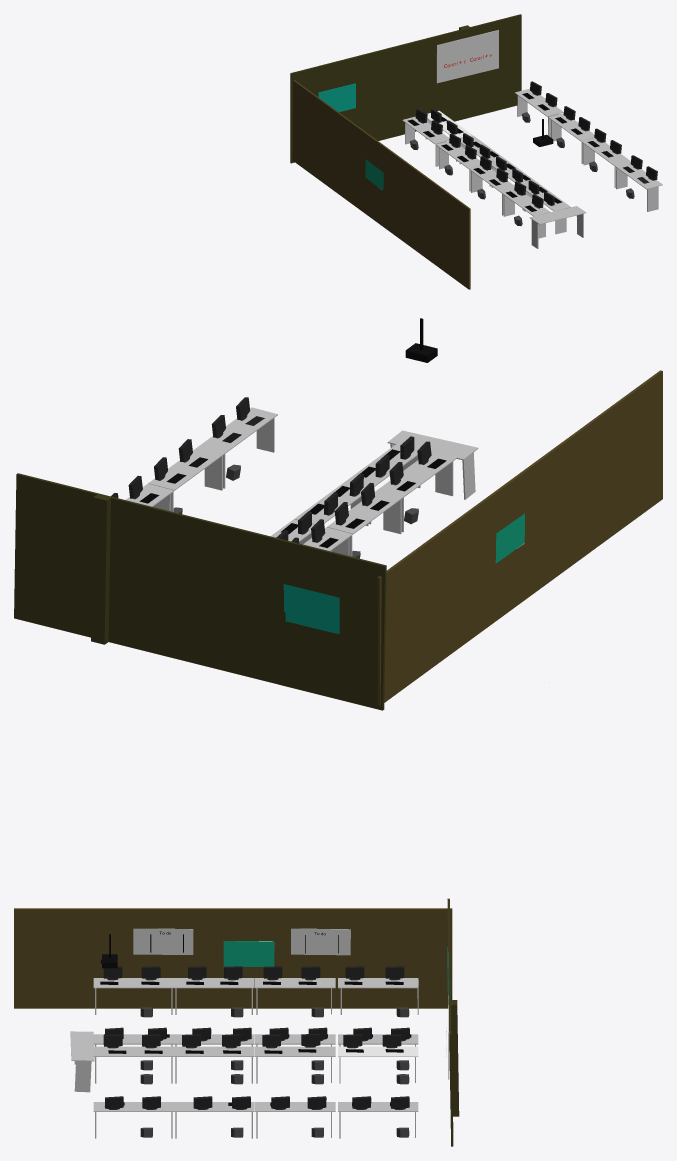
3 views of the same model, one above another, from view 1: azimuth 30°, elevation 25°; view 2: azimuth 150°, elevation 25°; view 3: azimuth 270°, elevation 25° (orthographic). The views are drawn at different scales.
Parts seen in each view (by area): view 1: teste_Cube.002, Cube.001, Cube_Cube.003, Cube.000_Cube.000, Cube.083_Cube.020_Cube.083_Cube.021_mesa_0, Cube.083_Cube.007_Cube.083_Cube.008_mesa_4, Cube.083_Cube.006_Cube.083_Cube.007_mesa_1, Cube.083_Cube.005_Cube.083_Cube.006_mesa_2, Cube.083_Cube.002_Cube.083_Cube.005_mesa_3, Cube.083_Cube.015_Cube.083_Cube.016_mesa_12, Cube.083_Cube.013_Cube.083_Cube.014_mesa_10, Cube.083_Cube.014_Cube.083_Cube.015_mesa_9 (+1 smaller); view 2: Cube.001, teste_Cube.002, Cube.000_Cube.000, Cube.083_Cube.005_Cube.083_Cube.006_mesa_2, Cube.083_Cube.006_Cube.083_Cube.007_mesa_1, Cube.083_Cube.013_Cube.083_Cube.014_mesa_10, Cube.083_Cube.014_Cube.083_Cube.015_mesa_9, Cube.083_Cube.020_Cube.083_Cube.021_mesa_0, Cube.002_Cube.002, Cube.083_Cube.018_Cube.083_Cube.019_mesa_8, Cube.083_Cube.017_Cube.083_Cube.018_mesa_7; view 3: teste_Cube.002, Cube.002_Cube.001, Cube.002_Cube.000, Cube.001, Cube.002_Cube.002, Cube.083_Cube.016_Cube.083_Cube.017_mesa_6, Cube.083_Cube.018_Cube.083_Cube.019_mesa_8, Cube.083_Cube.019_Cube.083_Cube.020_mesa_5, Cube.083_Cube.004_mesa_13, Cube.083_Cube.017_Cube.083_Cube.018_mesa_7, Cube.083_Cube.003_mesa_14, Cube.083_Cube.000 (+2 smaller).
Boxes of the visible parts, x1,y1,x2,y2 form: teste_Cube.002: (292, 80, 470, 289); Cube.001: (290, 14, 521, 163); Cube_Cube.003: (436, 30, 498, 83); Cube.000_Cube.000: (318, 83, 355, 111); Cube.083_Cube.020_Cube.083_Cube.021_mesa_0: (529, 206, 586, 224); Cube.083_Cube.007_Cube.083_Cube.008_mesa_4: (515, 88, 563, 116); Cube.083_Cube.006_Cube.083_Cube.007_mesa_1: (614, 161, 662, 189); Cube.083_Cube.005_Cube.083_Cube.006_mesa_2: (581, 138, 629, 165); Cube.083_Cube.002_Cube.083_Cube.005_mesa_3: (548, 113, 594, 141); Cube.083_Cube.015_Cube.083_Cube.016_mesa_12: (402, 116, 449, 144); Cube.083_Cube.013_Cube.083_Cube.014_mesa_10: (469, 165, 514, 192); Cube.083_Cube.014_Cube.083_Cube.015_mesa_9: (501, 189, 550, 216); Cube.001: (14, 473, 386, 710); teste_Cube.002: (377, 370, 662, 705); Cube.000_Cube.000: (283, 584, 339, 633); Cube.083_Cube.005_Cube.083_Cube.006_mesa_2: (148, 445, 226, 490); Cube.083_Cube.006_Cube.083_Cube.007_mesa_1: (200, 407, 277, 452); Cube.083_Cube.013_Cube.083_Cube.014_mesa_10: (327, 489, 404, 534); Cube.083_Cube.014_Cube.083_Cube.015_mesa_9: (379, 451, 456, 496); Cube.083_Cube.020_Cube.083_Cube.021_mesa_0: (387, 430, 478, 460); Cube.002_Cube.002: (495, 513, 524, 563); Cube.083_Cube.018_Cube.083_Cube.019_mesa_8: (346, 443, 418, 486); Cube.083_Cube.017_Cube.083_Cube.018_mesa_7: (294, 481, 365, 524); teste_Cube.002: (14, 908, 452, 1008); Cube.002_Cube.001: (133, 928, 193, 954); Cube.002_Cube.000: (291, 928, 350, 955); Cube.001: (447, 898, 459, 1146); Cube.002_Cube.002: (223, 941, 274, 966); Cube.083_Cube.016_Cube.083_Cube.017_mesa_6: (255, 1046, 335, 1056); Cube.083_Cube.018_Cube.083_Cube.019_mesa_8: (93, 1046, 174, 1056); Cube.083_Cube.019_Cube.083_Cube.020_mesa_5: (338, 1046, 418, 1056); Cube.083_Cube.004_mesa_13: (93, 978, 174, 988); Cube.083_Cube.017_Cube.083_Cube.018_mesa_7: (174, 1046, 254, 1056); Cube.083_Cube.003_mesa_14: (174, 978, 254, 988); Cube.083_Cube.000: (338, 978, 418, 988).
Bounding box in the file's own units: 67.05 × 19.31 × 72.52.
